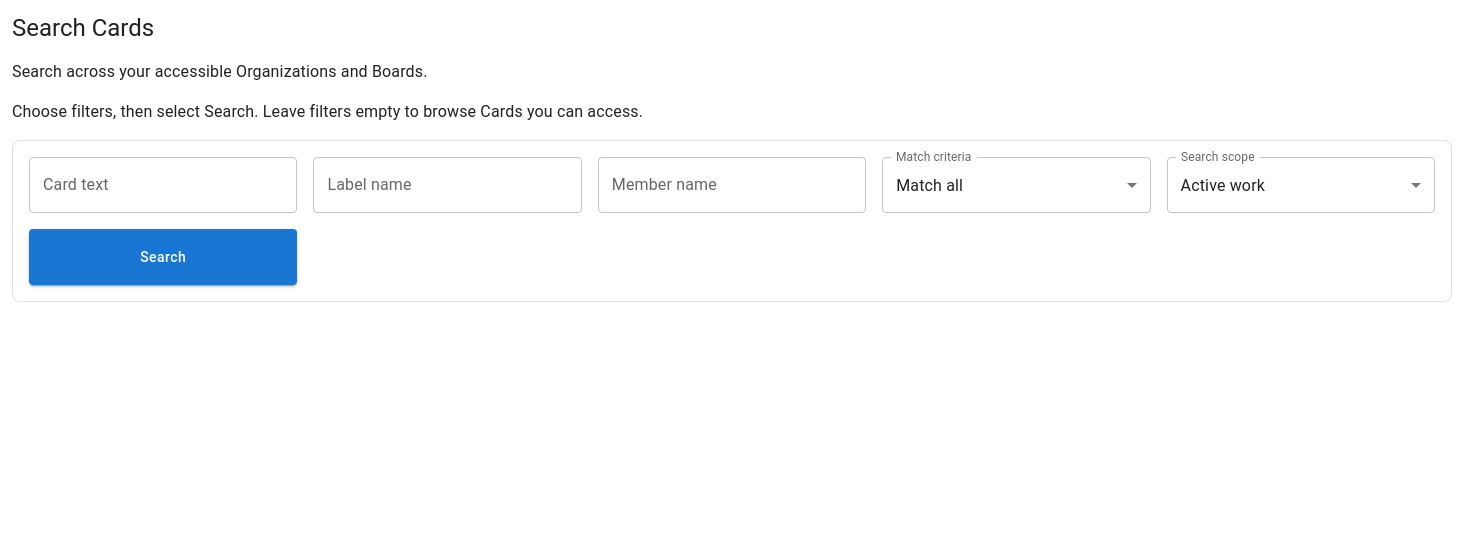
Test case: identifies an unapplied Match criteria selection
Type "landscaping" into the field labelled "Card text" at x=163, y=185, box [29,157,297,213]
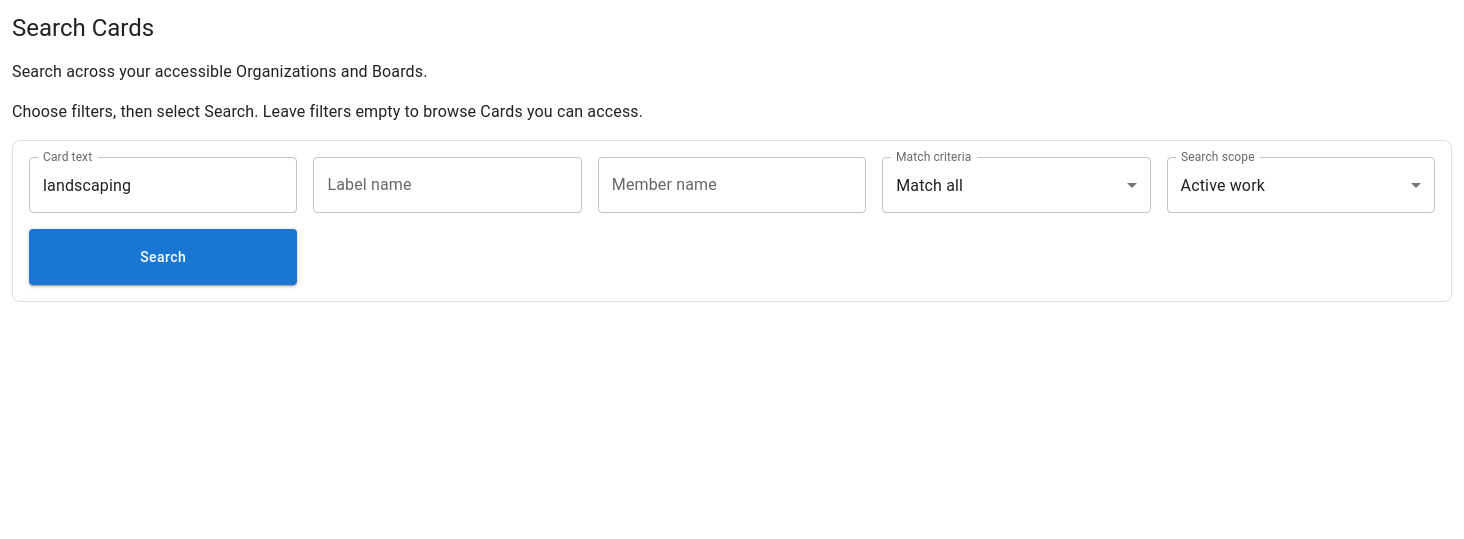
Submit the form "Card text", box [12,140,1452,302]
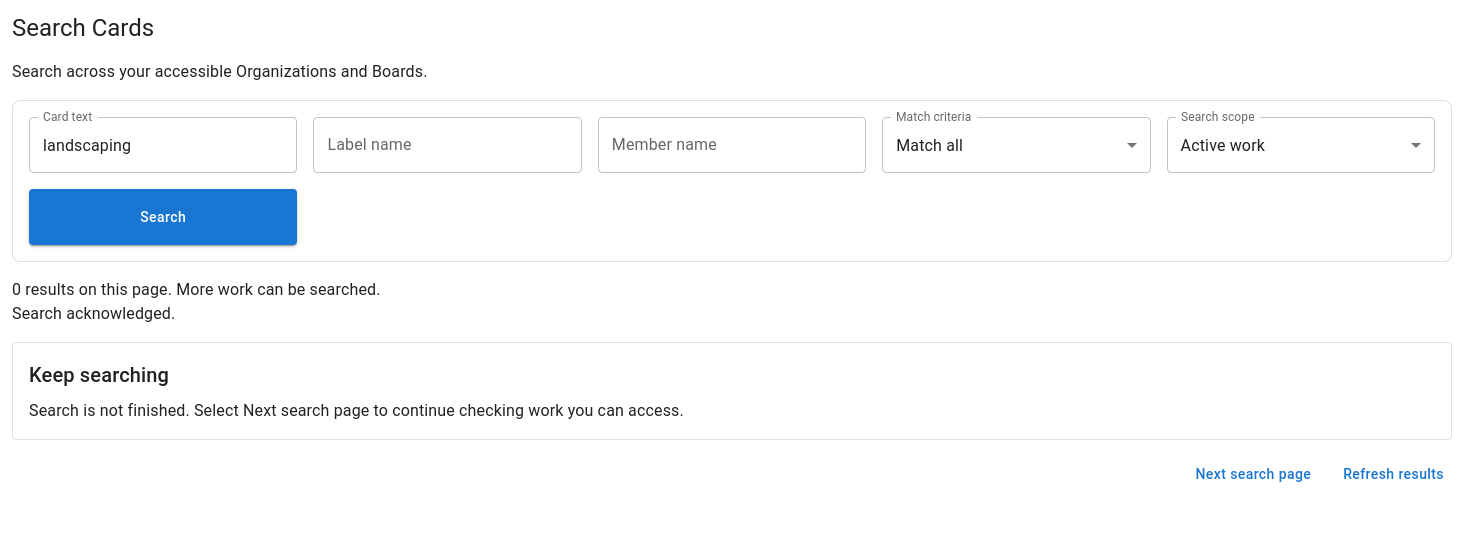
Check: the button "Next search page" is shown, box [1188,456,1319,492]
Press the mouse on the dropdown named "Match criteria" at x=930, y=145, box [896,136,963,154]
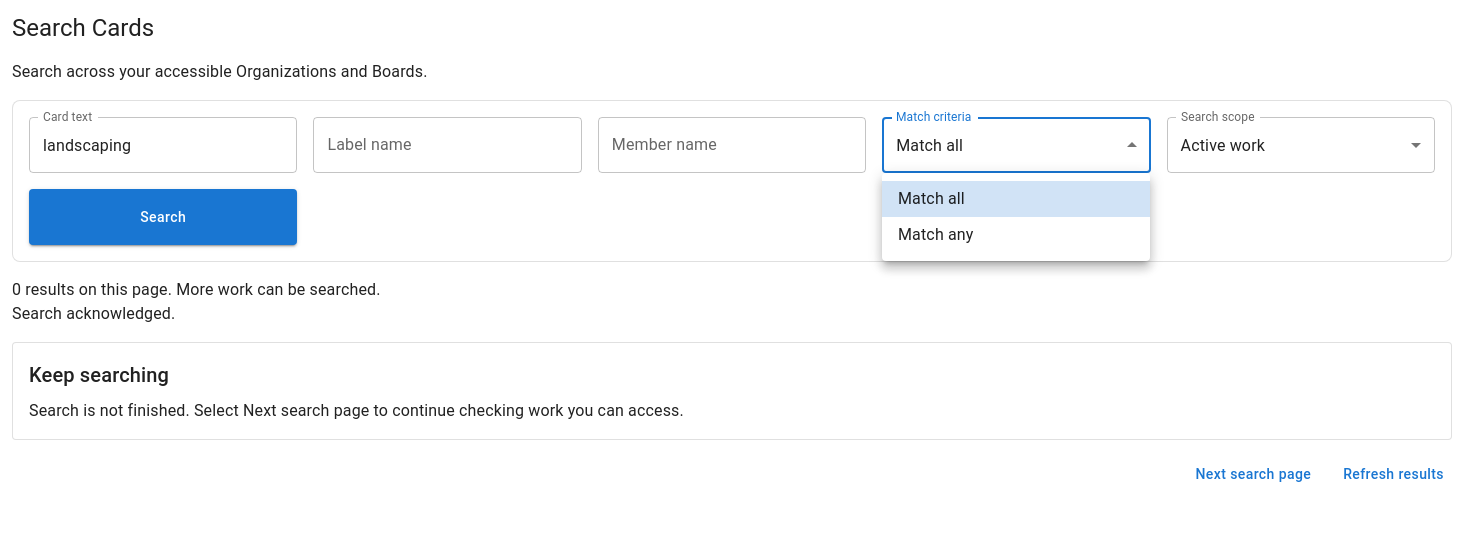
Click the option "Match any" at x=936, y=234, box [898,225,974,244]
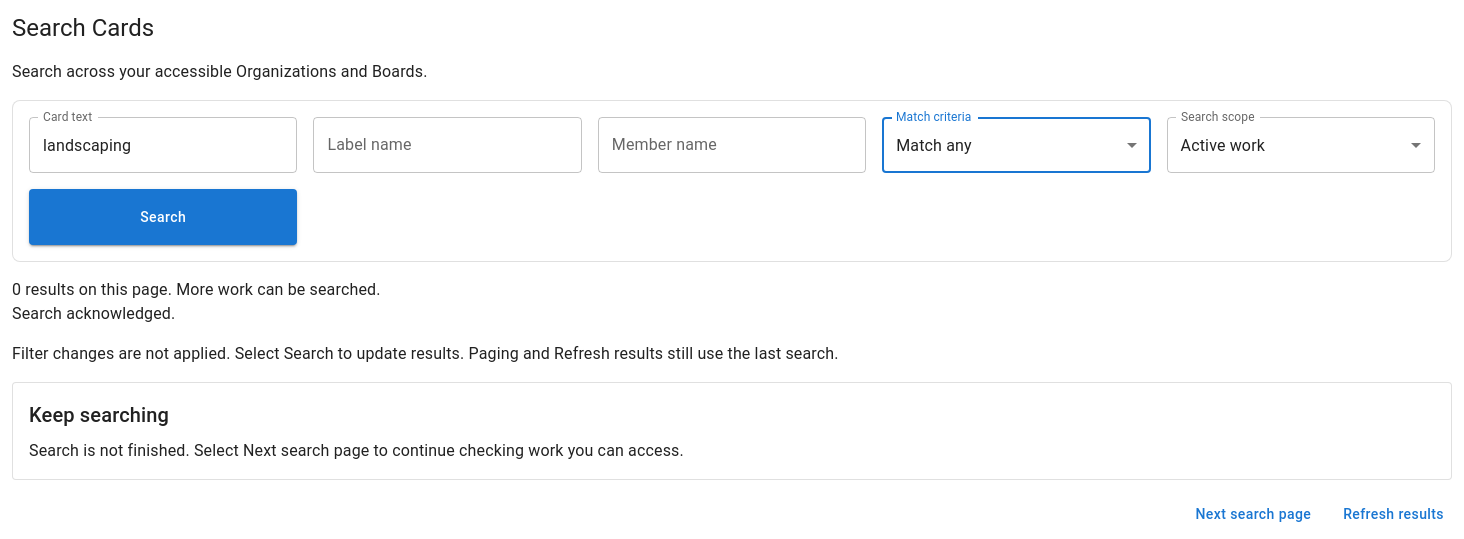
Check: the text "Filter changes are not applied. Select Search to update results. Paging and Refresh results still use the last search." is shown, box [12,344,839,363]
